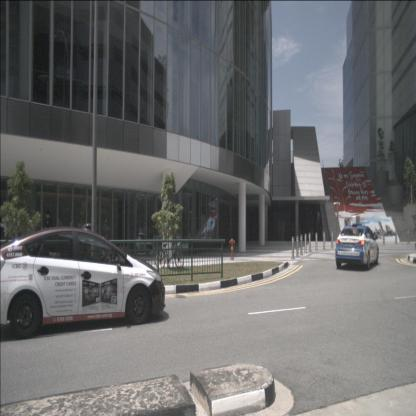human-pedestrian-adult: (44, 210, 52, 258)
vehicle-bicycle: (154, 239, 184, 269)
vehicle-car: (0, 223, 166, 339), (335, 222, 379, 270)
